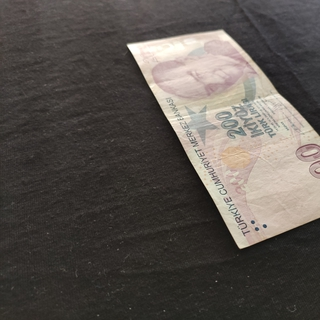200TLFront: (125, 28, 320, 249)
